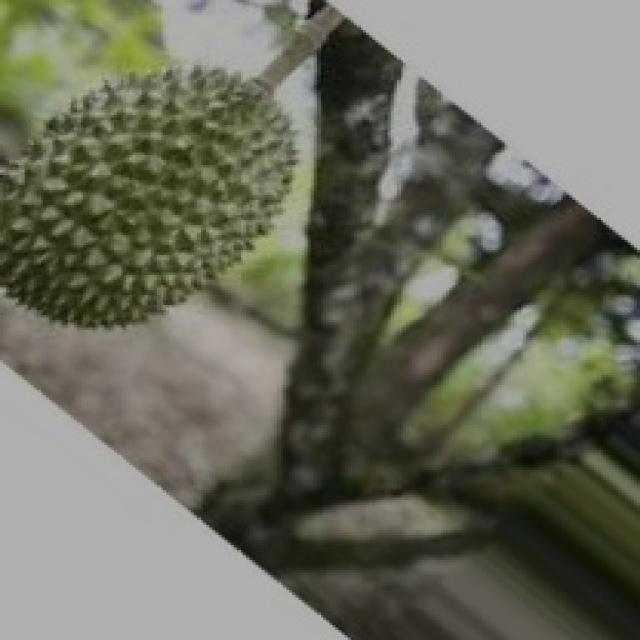fruit: (3, 10, 345, 395)
